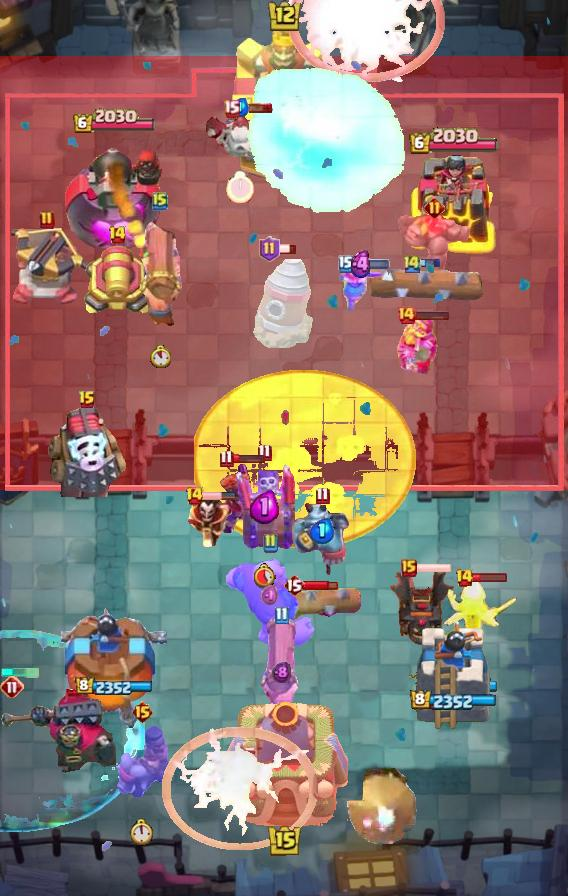archer-evolution: (389, 565, 455, 649)
balloon: (223, 557, 317, 649)
barbarian-evolution: (162, 726, 318, 849), (287, 0, 445, 82)
battle-healer: (136, 214, 184, 328), (258, 619, 304, 723)
electro-spirit: (250, 490, 279, 524), (349, 250, 375, 279), (309, 518, 334, 544), (272, 660, 292, 684), (260, 585, 280, 608), (231, 99, 249, 118)
elite-barbarian: (111, 724, 173, 800)
elixir: (226, 171, 254, 204), (130, 818, 154, 845), (252, 563, 276, 588), (149, 344, 170, 367)
elixir-golem-small: (292, 499, 352, 577)
emote: (416, 562, 453, 574), (237, 102, 273, 114), (414, 309, 450, 321), (231, 452, 266, 464), (302, 579, 337, 591), (471, 572, 509, 583), (352, 259, 390, 269), (201, 491, 237, 501), (419, 259, 441, 270), (277, 243, 297, 255)
firecracker-evolution: (395, 313, 441, 375)
golem: (45, 405, 129, 497)
hog-rider: (337, 260, 385, 314)
ice-spirit: (0, 668, 40, 678)
inferno-tower: (0, 689, 116, 777)
king-tower: (220, 21, 348, 181), (220, 702, 348, 827)
lava-pup: (6, 228, 88, 308)
lumberjack: (184, 493, 236, 547)
magic-archer: (250, 254, 316, 352)
mega-knight: (244, 67, 410, 217)
mini-pekka: (202, 112, 278, 162)
minion: (362, 262, 492, 304), (259, 583, 362, 621)
pad_0: (0, 630, 144, 836)
phoenix-egg: (194, 370, 416, 548)
poison: (435, 575, 523, 649)
queen-tower: (61, 603, 167, 731), (409, 616, 497, 731), (408, 154, 498, 256)
royal-recruit: (81, 245, 153, 319)
selected: (409, 127, 500, 156), (72, 109, 156, 136), (411, 690, 498, 712), (75, 677, 153, 697)
skeleton-king-bar: (233, 460, 295, 550)
tesla-evolution: (217, 460, 261, 536)
text: (0, 675, 24, 699), (130, 700, 154, 724), (259, 236, 280, 262), (283, 573, 305, 597), (424, 197, 445, 219), (402, 253, 422, 275), (396, 305, 416, 325), (108, 225, 127, 245), (184, 486, 203, 506), (454, 568, 473, 588), (78, 390, 96, 410), (224, 99, 241, 118), (152, 191, 168, 211), (39, 210, 55, 230), (262, 533, 278, 553), (338, 255, 354, 273), (401, 559, 417, 577), (257, 442, 272, 461), (218, 449, 233, 468), (314, 486, 329, 505), (275, 607, 289, 625)
tower-bar: (63, 138, 164, 256)
valkyrie-evolution: (396, 210, 472, 278)
x-bow: (332, 765, 418, 847)
